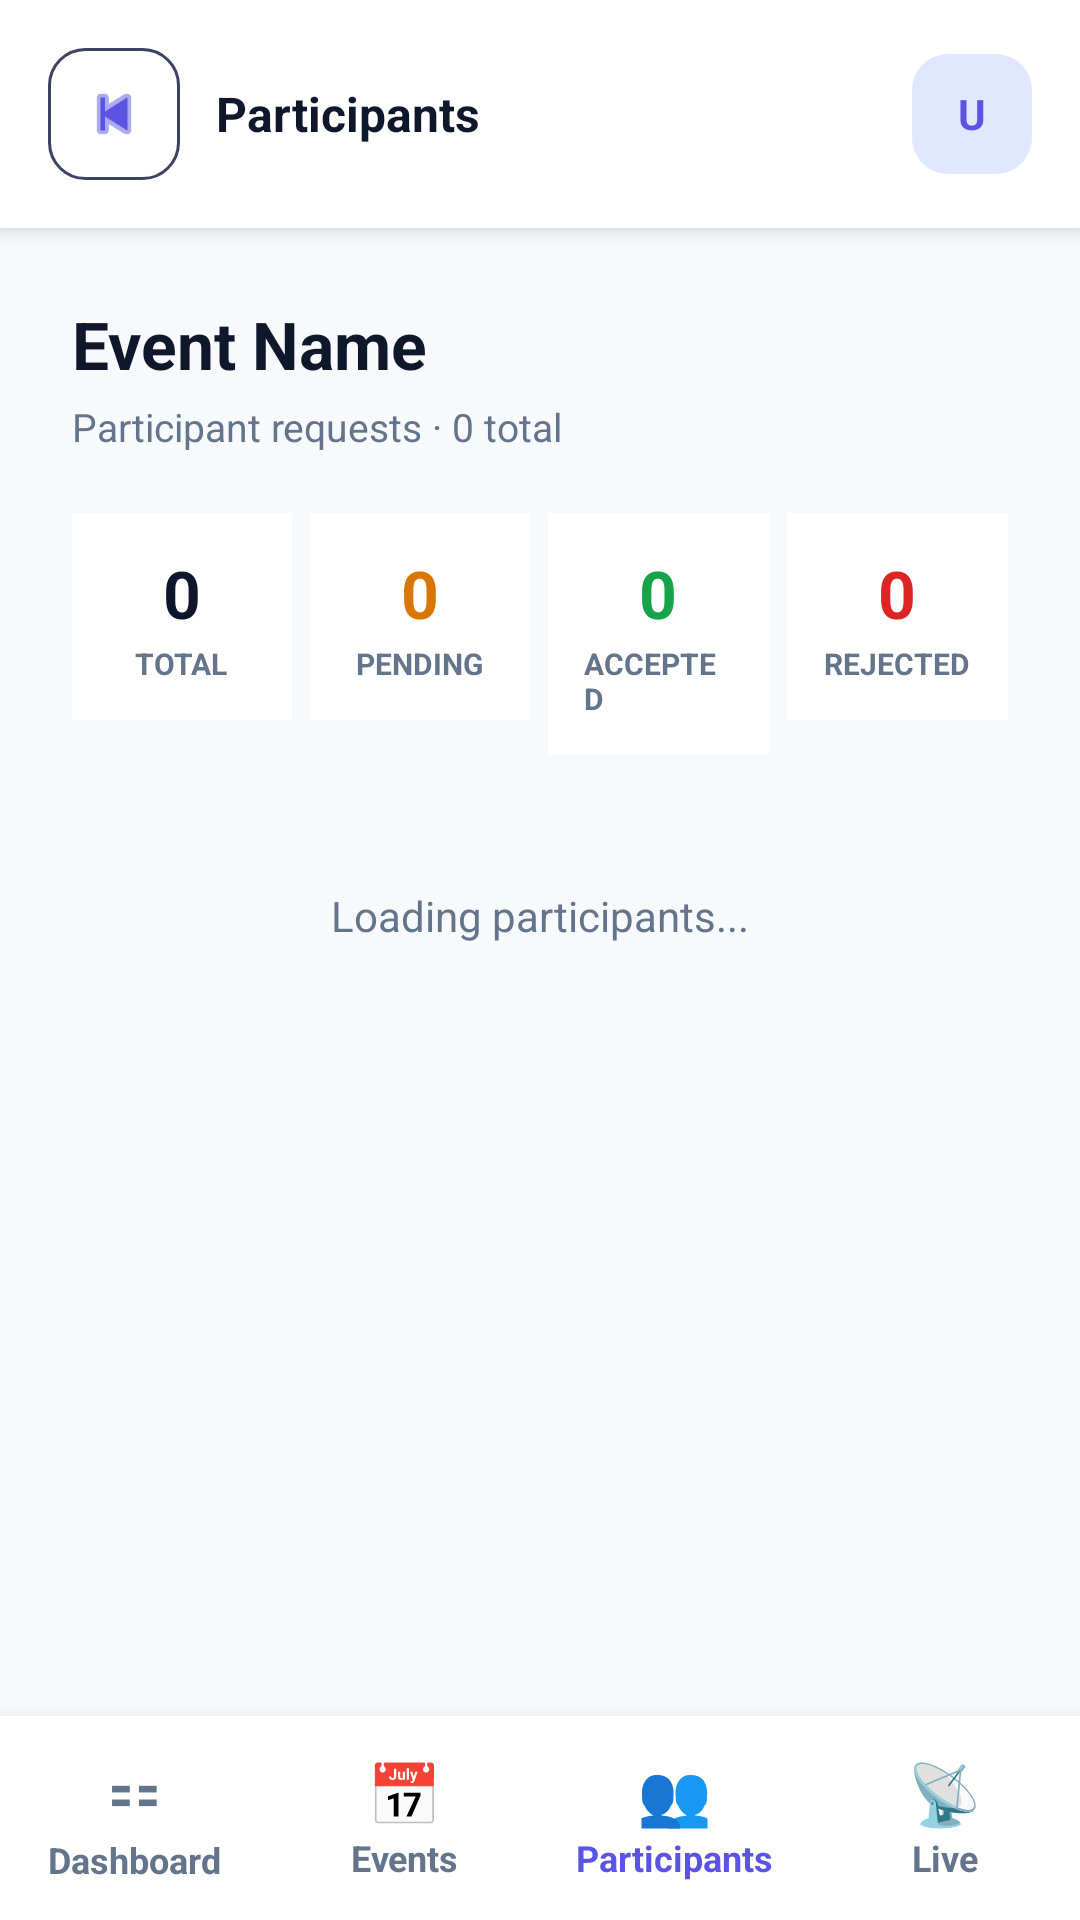

Where icons sit on this 1080px x 1920px app screen, as (x1, y1, x2, y2):
previous: (48, 48, 180, 180)
